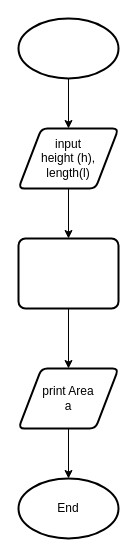
Some shapes in this 136 by 556 pixel diagram are drawn without their labels. The box of each missing label's shape, as (x1, y1, x2, y2) in pixels:
Area(a)= h * l: (17, 237, 119, 309)
start: (17, 17, 119, 79)
